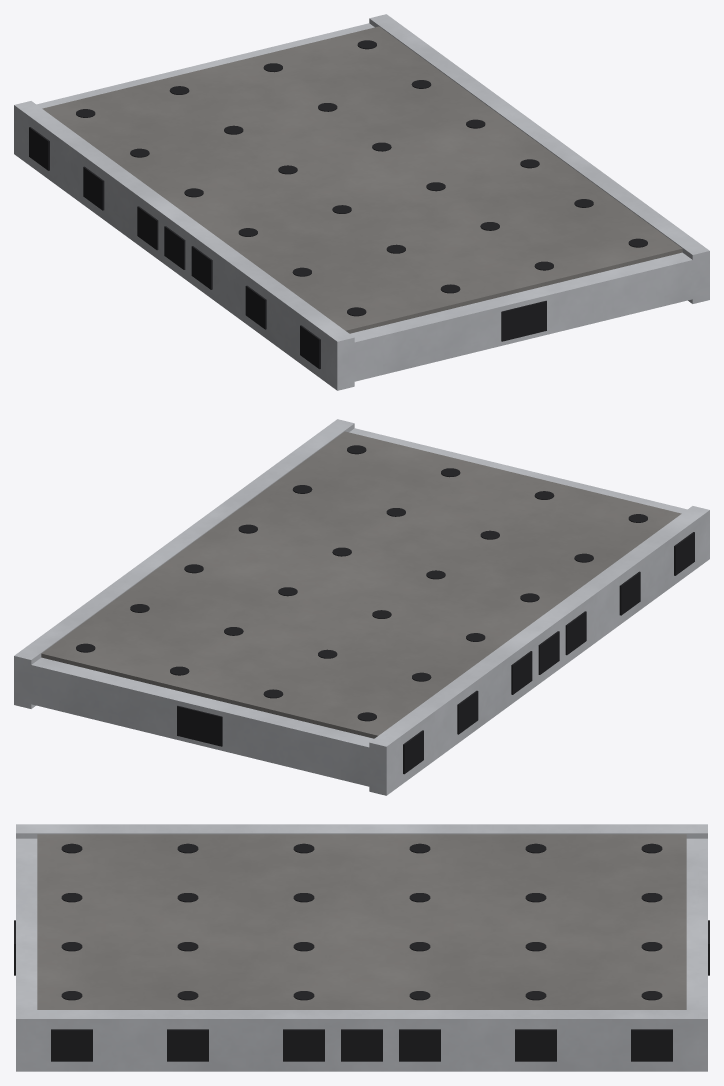
Rendered from rover13_chassis_frame_m.glb.
The picture shows the model from 3 angles, top to bottom: view 1: azimuth 30°, elevation 25°; view 2: azimuth 150°, elevation 25°; view 3: azimuth 270°, elevation 25°; orthographic projection. The views are drawn at different scales.
Visible parts, largest first — view 1: deck_top, rails, end_beams, hardpoints, sockets_top, end_hardpoints; view 2: deck_top, rails, end_beams, hardpoints, sockets_top, end_hardpoints; view 3: deck_top, rails, hardpoints, end_beams, sockets_top.
Part boxes in pixels (x1,y1,x2,y2): deck_top: (42, 26, 682, 333); rails: (14, 14, 709, 390); end_beams: (36, 23, 692, 381); hardpoints: (29, 127, 320, 369); sockets_top: (76, 40, 647, 316); end_hardpoints: (501, 300, 546, 341); deck_top: (41, 431, 681, 738); rails: (14, 419, 709, 795); end_beams: (31, 428, 687, 786); hardpoints: (403, 532, 694, 774); sockets_top: (76, 445, 647, 721); end_hardpoints: (177, 705, 222, 746); deck_top: (37, 834, 686, 1009); rails: (16, 824, 707, 1071); hardpoints: (51, 1029, 672, 1061); end_beams: (16, 838, 707, 1009); sockets_top: (61, 843, 662, 1000).
Size of the model in its own units: 2 by 0.25 by 3.
Materials: 3 (2 with a texture image).
